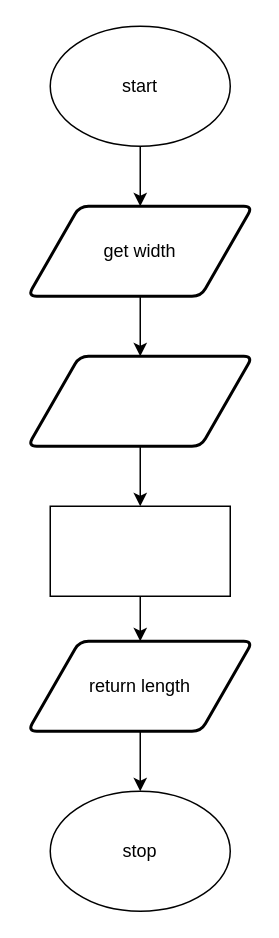
This 279x938 diagram has some shape labels left out. The shapes that lost their labels are listed below. From the top down, each one's centre as x and y in pixels, then its label:
pixel 140 400: get height
pixel 139 550: speed_of_light = 2.998 * 10 ^8
